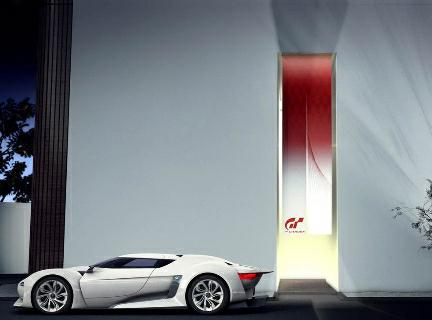雪铁龙-GT: (10, 245, 278, 313)
